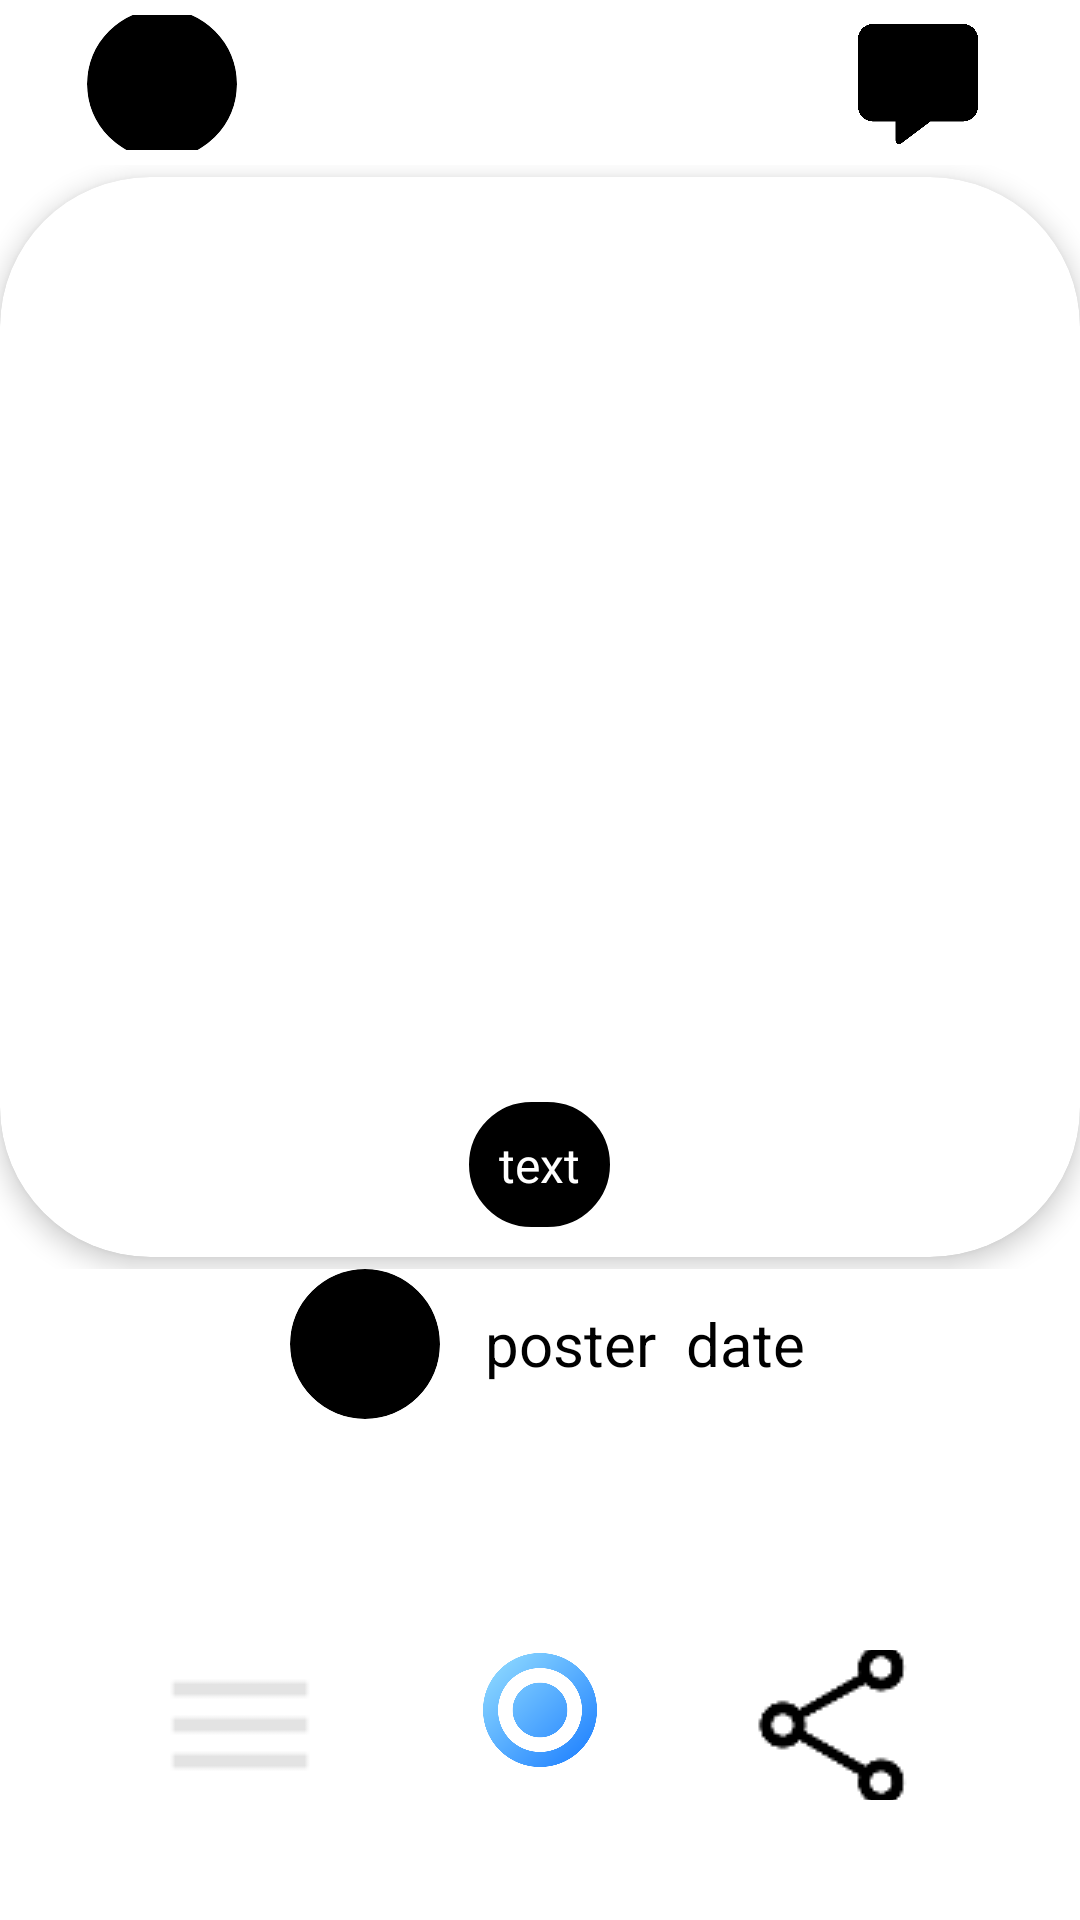

Named icons in this screenshot (1080 x 1920) and their bounding boxes, [left=x1, top=y1, right=x2, bottom=y2]:
chat: [left=858, top=24, right=978, bottom=144]
share: [left=758, top=1650, right=904, bottom=1800]
Take a photo: [left=483, top=1653, right=597, bottom=1767]
